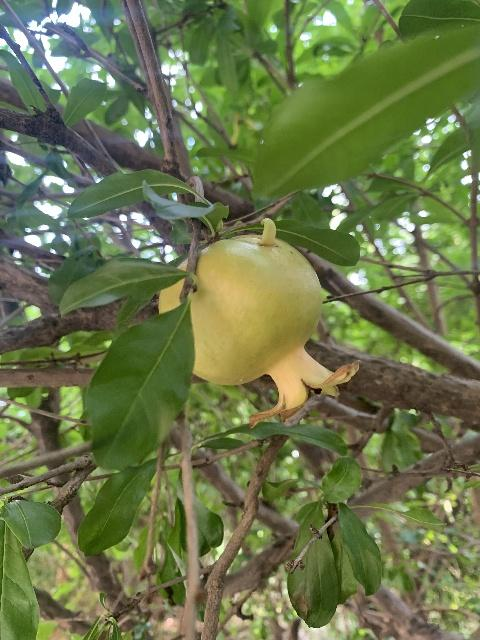mid-growth: (157, 236, 359, 427)
